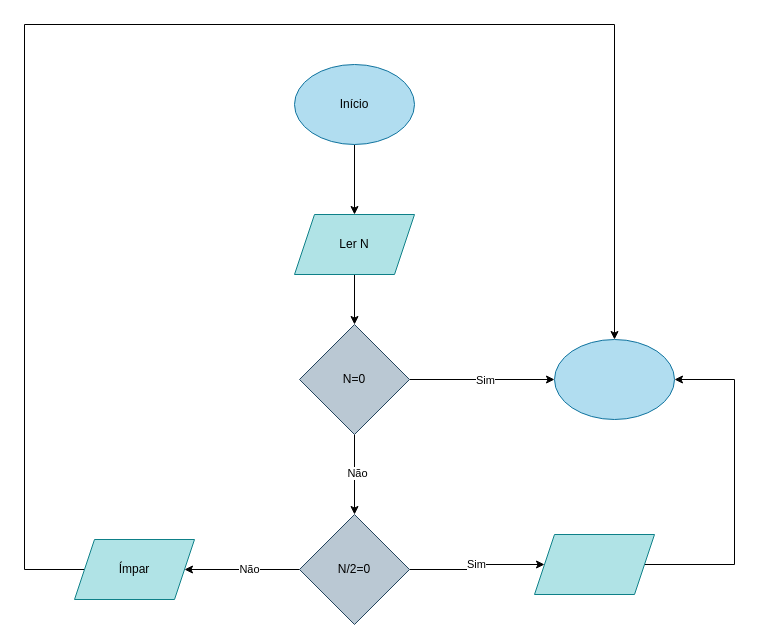
This 760x642 diagram has some shape labels left out. The centre of each missing label's shape, as x and y in pixels:
"Fim" goes at [614,379].
"Par" goes at [594,564].
